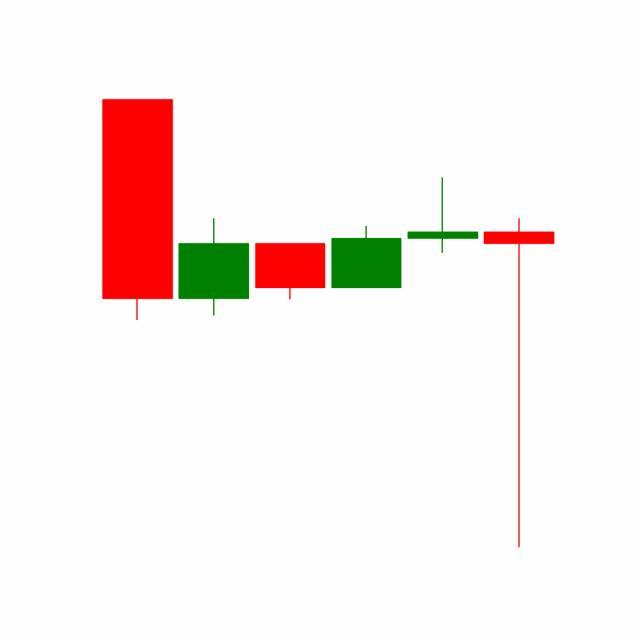Spinning Top: (404, 177, 482, 255)
